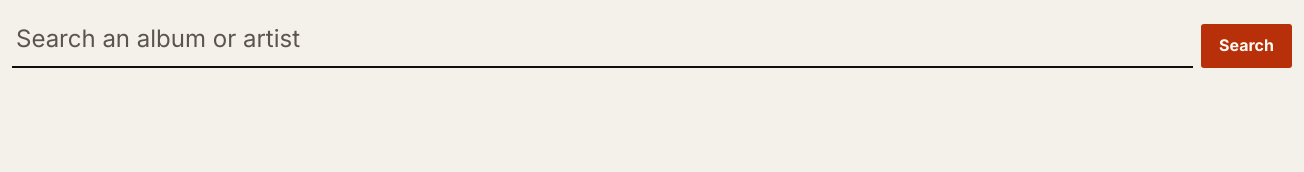
Test: search box › starts no second search while one is pending, then sends only the latest text
Later steps or results of the test are not shown.
Type "getz" into the search field at (602, 40), box x1=12 y1=12 x2=1193 y2=68
Wait 500 ms
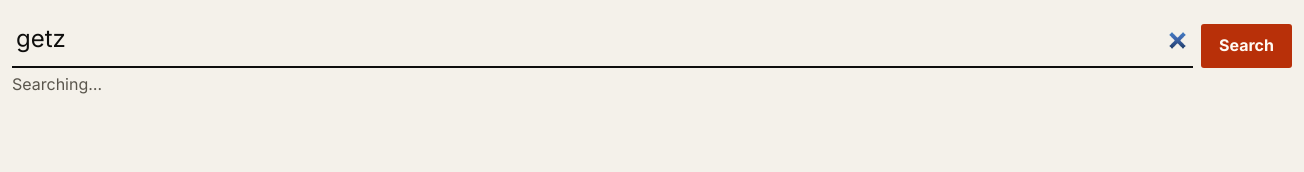
expect the message reads "Searching…": met, box x1=12 y1=74 x2=102 y2=94
